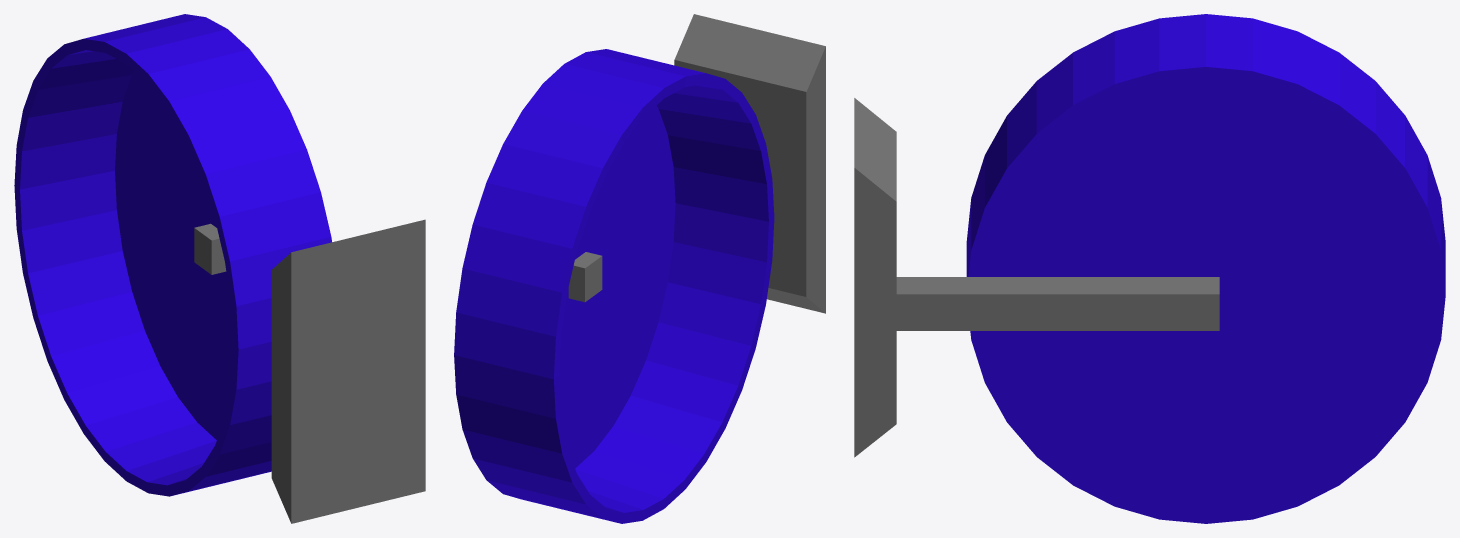
Rendered from WheelLarge.fbx.
3 renders of one model, left to right at view 1: azimuth 30°, elevation 25°; view 2: azimuth 150°, elevation 25°; view 3: azimuth 270°, elevation 25°, orthographic. The views are drawn at different scales.
Parts seen in each view (by area): view 1: Cylinder; view 2: Cylinder; view 3: Cylinder.
Part boxes in pixels (x1,y1,x2,y2): Cylinder: [14, 14, 425, 523]; Cylinder: [454, 14, 825, 523]; Cylinder: [854, 14, 1445, 523].
Size of the model in its own units: 277 by 841 by 987.
